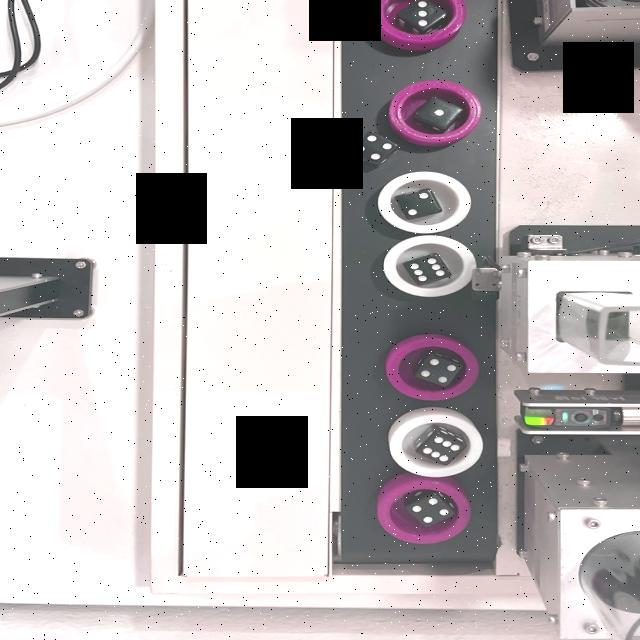DICE1: (426, 102, 450, 124)
DICE2: (398, 192, 432, 218)
DICE3: (404, 0, 436, 30)
DICE4: (408, 494, 454, 526), (416, 356, 459, 386), (354, 134, 397, 162)
DICE6: (420, 432, 464, 465), (404, 256, 444, 282)
RedChip: (378, 478, 472, 544), (387, 337, 483, 401), (392, 81, 482, 143), (374, 0, 466, 42)
WhiteChip: (390, 413, 487, 477), (377, 172, 475, 235), (384, 234, 480, 296)
